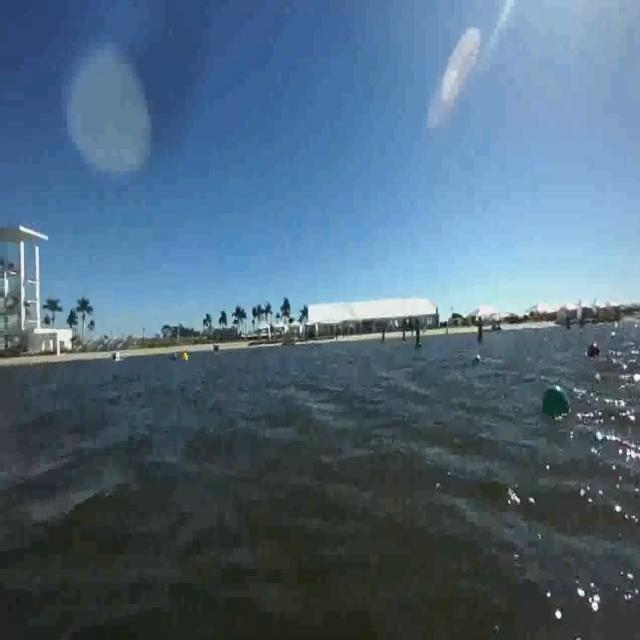yellow-buoy: (535, 382, 584, 431)
